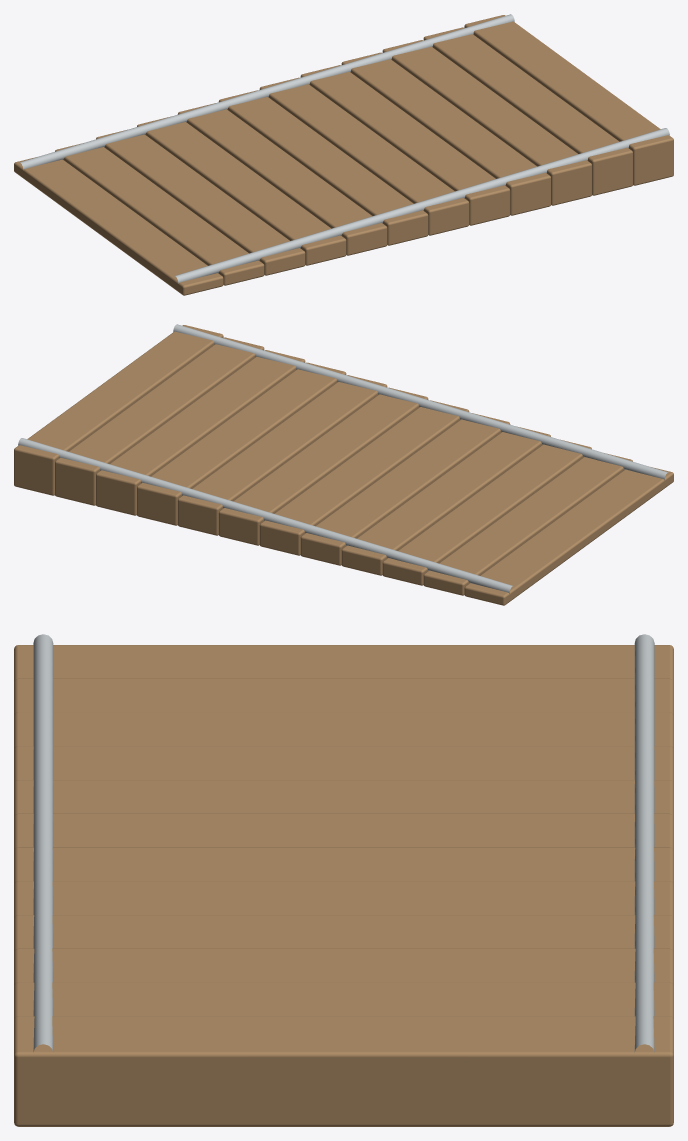
File: rowing-boathouse-and-regatta-course-pontoon-shore-ramp-be7fc160__32169.glb
The picture shows the model from 3 angles, top to bottom: view 1: azimuth 30°, elevation 25°; view 2: azimuth 150°, elevation 25°; view 3: azimuth 270°, elevation 25°; orthographic projection. The views are drawn at different scales.
Visible parts, largest first — view 1: pontoon-shore-ramp; view 2: pontoon-shore-ramp; view 3: pontoon-shore-ramp.
Boxes of the visible parts, left/top/right/bottom form: pontoon-shore-ramp: left=14, top=14, right=673, bottom=295; pontoon-shore-ramp: left=14, top=324, right=673, bottom=605; pontoon-shore-ramp: left=14, top=634, right=673, bottom=1126.
Bounding box in the file's own units: 3 × 0.2524 × 1.8.
